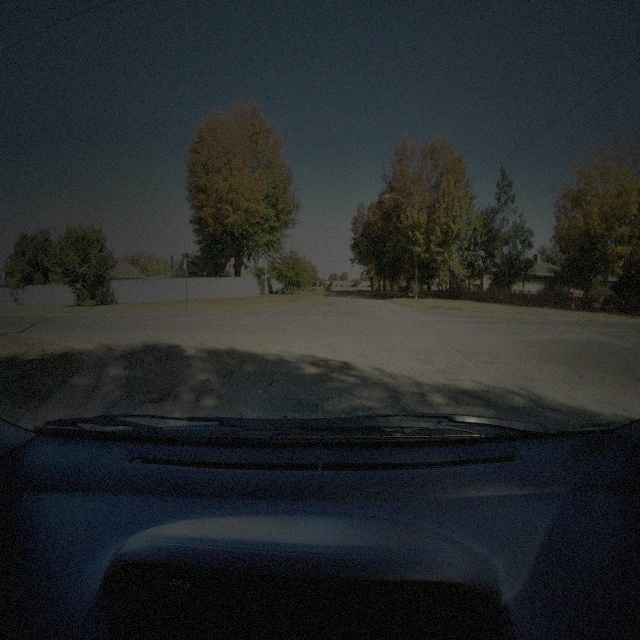pothole: (311, 356, 351, 371), (135, 388, 166, 406)
